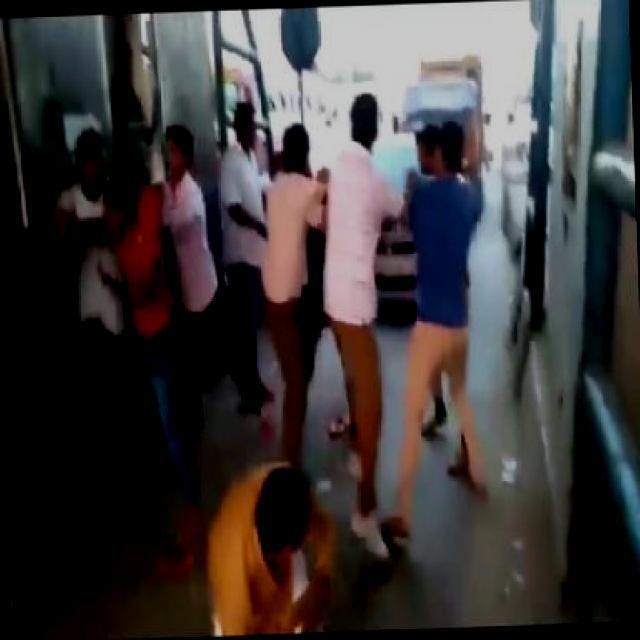fight: (69, 128, 220, 502)
